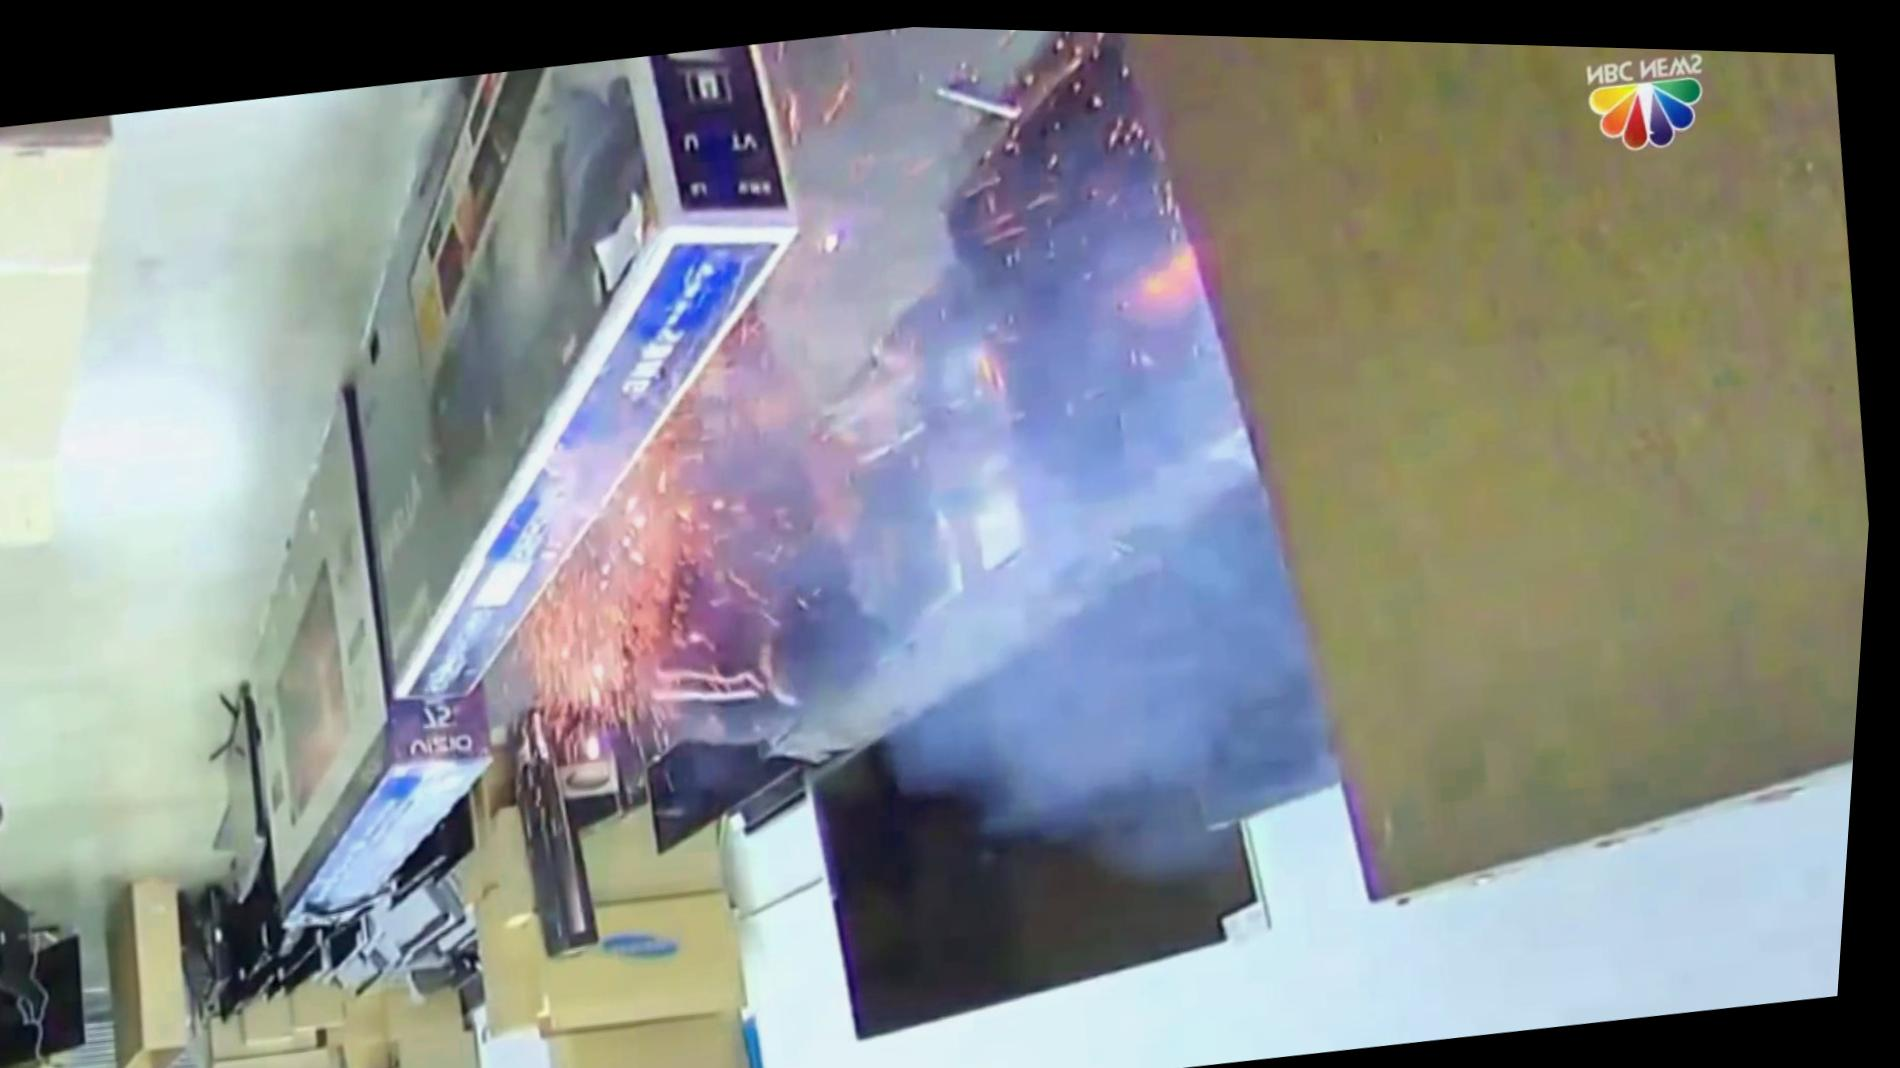fire: (191, 107, 1709, 961), (191, 107, 1253, 809)
